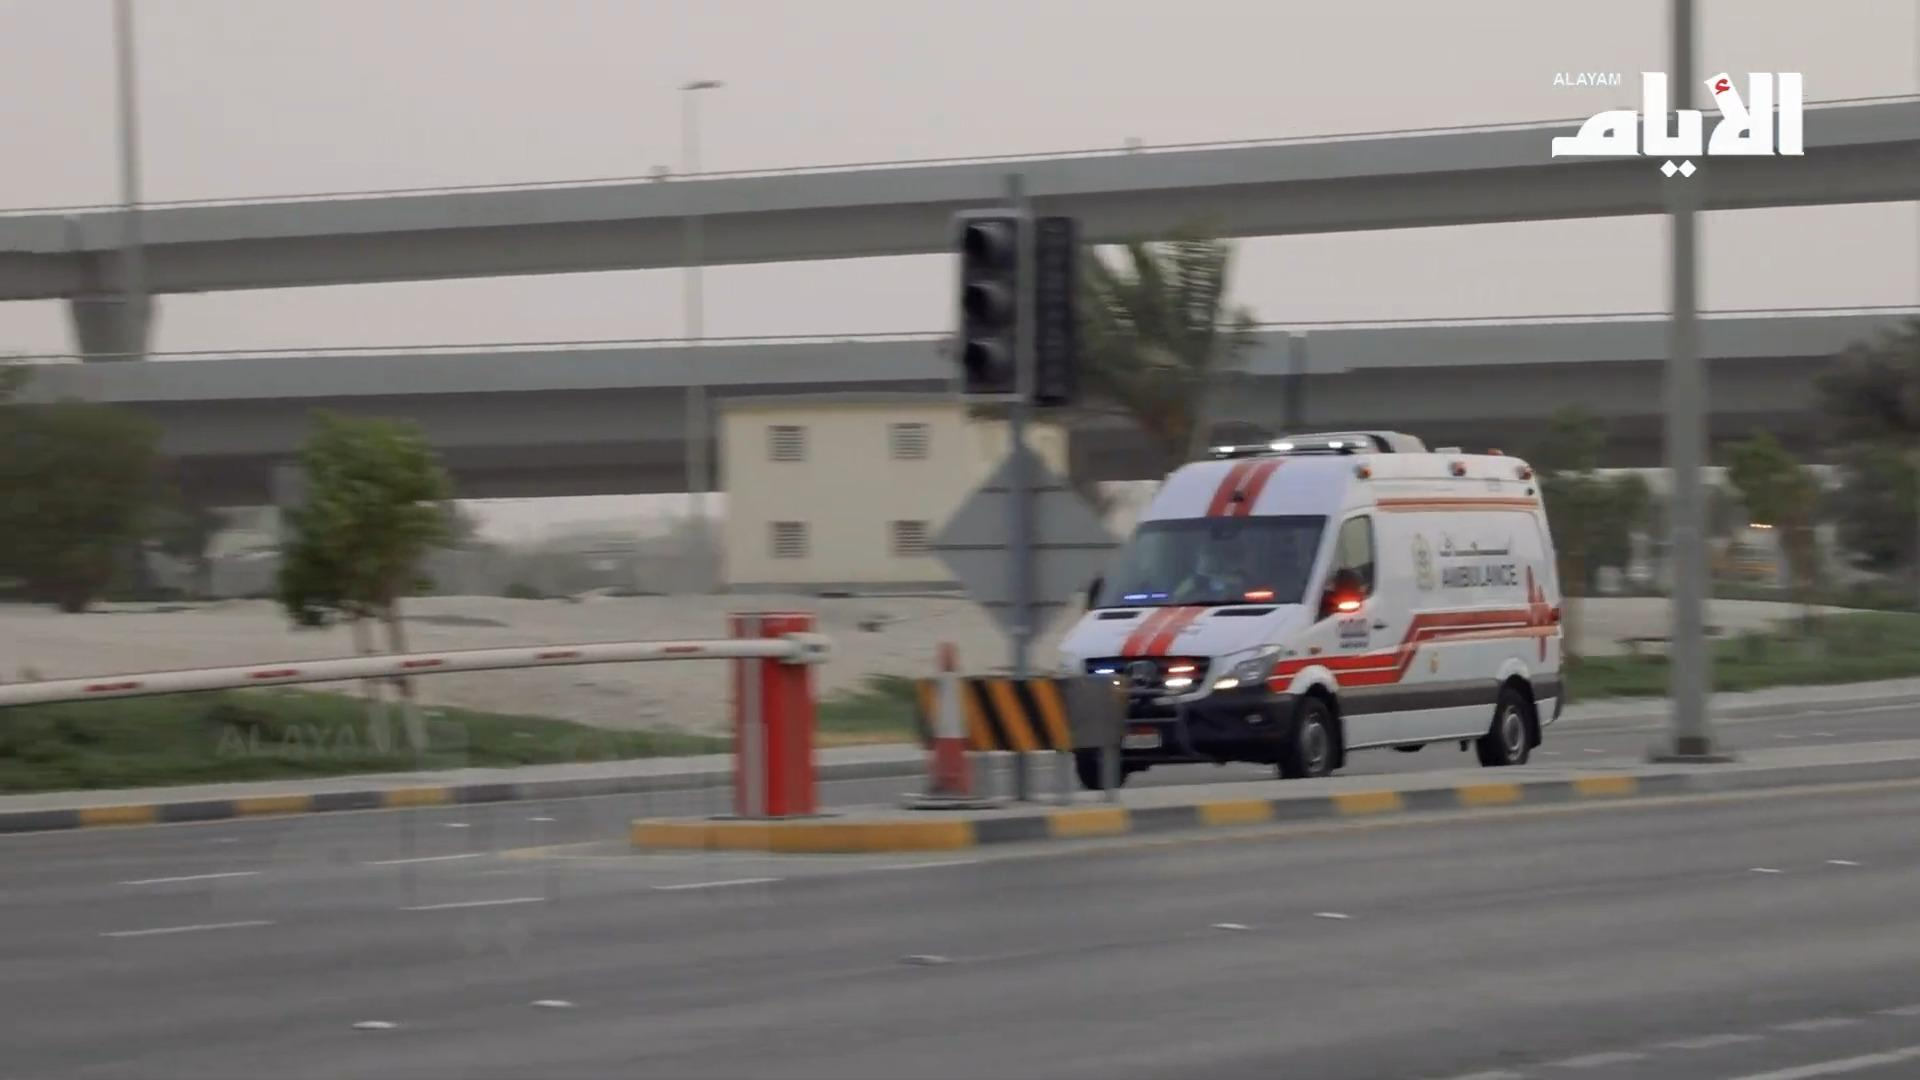ambulance_on: (1055, 429, 1565, 789)
